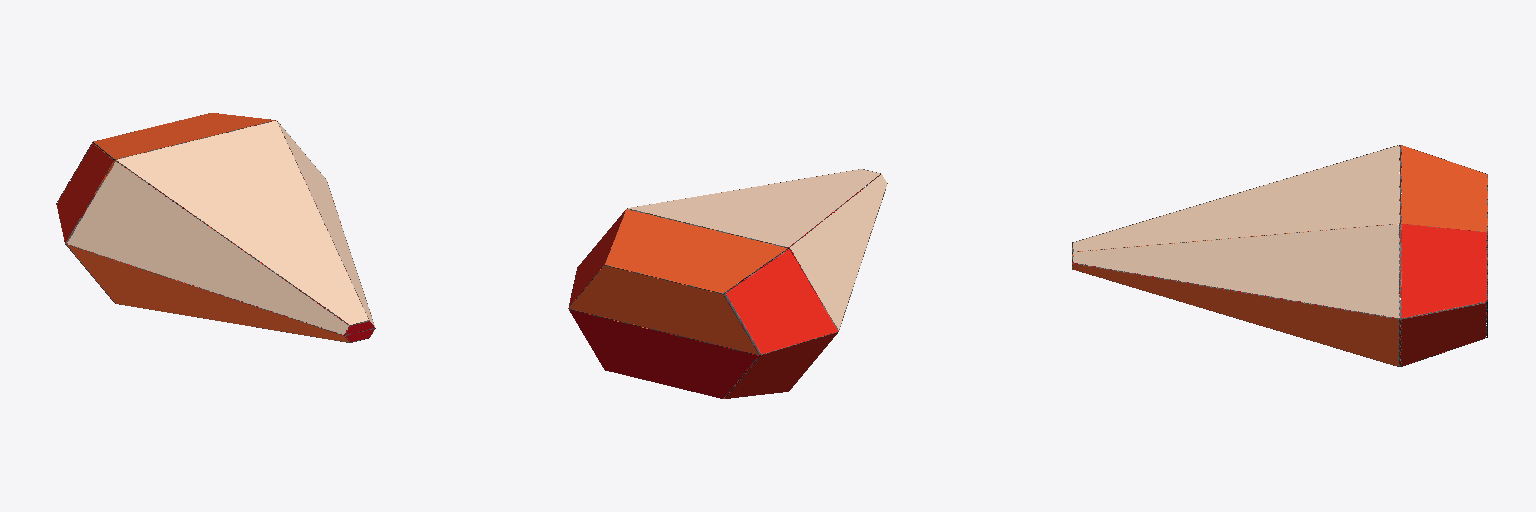
The picture shows the model from 3 angles: view 1: azimuth 30°, elevation 25°; view 2: azimuth 150°, elevation 25°; view 3: azimuth 270°, elevation 25°; orthographic projection.
Visible parts, largest first — view 1: boid; view 2: boid; view 3: boid.
Boxes of the visible parts, box(x1,y1,x2,y2) form: boid: box(56, 113, 375, 342); boid: box(568, 169, 887, 398); boid: box(1072, 145, 1487, 366).
Size of the model in its own units: 0.39 by 0.205 by 0.5363.
1 materials, 1 textured.